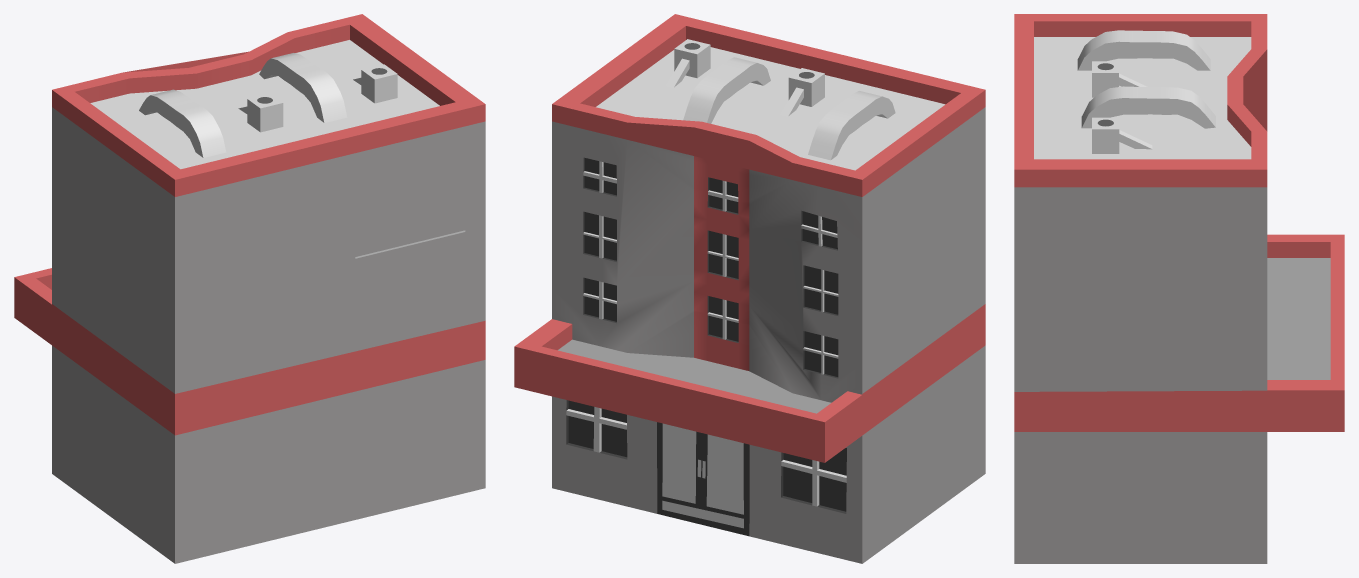
File: zgradaa.fbx
The picture shows the model from 3 angles, left to right: view 1: azimuth 30°, elevation 25°; view 2: azimuth 150°, elevation 25°; view 3: azimuth 270°, elevation 25°; orthographic projection. The views are drawn at different scales.
Visible parts, largest first — view 1: pCube9; view 2: pCube9; view 3: pCube9.
Boxes of the visible parts, box(x1,y1,x2,y2) form: pCube9: box(14, 14, 485, 563); pCube9: box(514, 14, 985, 563); pCube9: box(1014, 14, 1344, 563).
Size of the model in its own units: 6.77 by 8.38 by 6.07.
